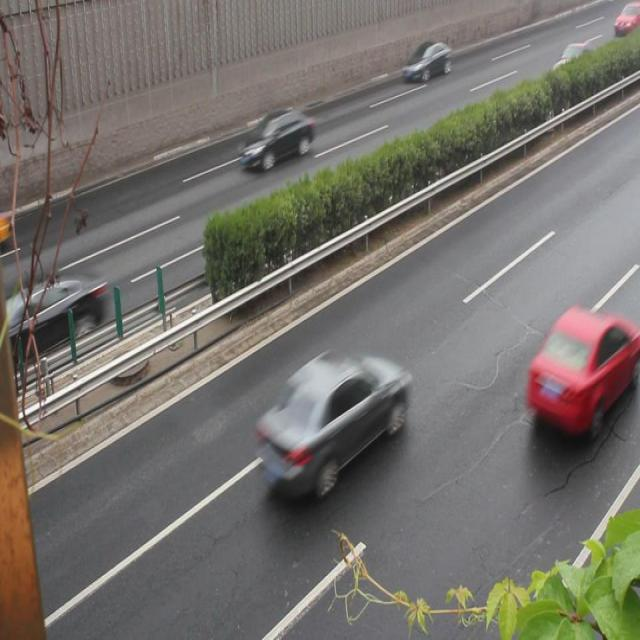car: (254, 344, 408, 499), (524, 302, 630, 434), (10, 272, 107, 362), (239, 111, 314, 168), (548, 42, 595, 92), (404, 38, 450, 82)
